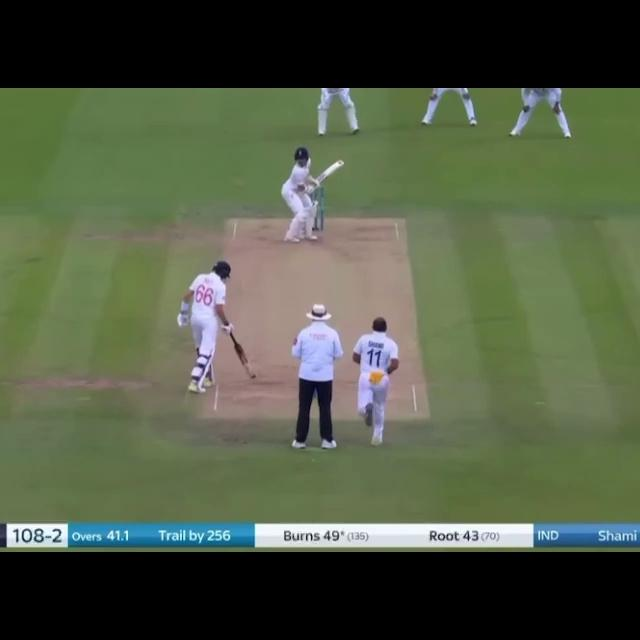umpire: (283, 298, 344, 455)
